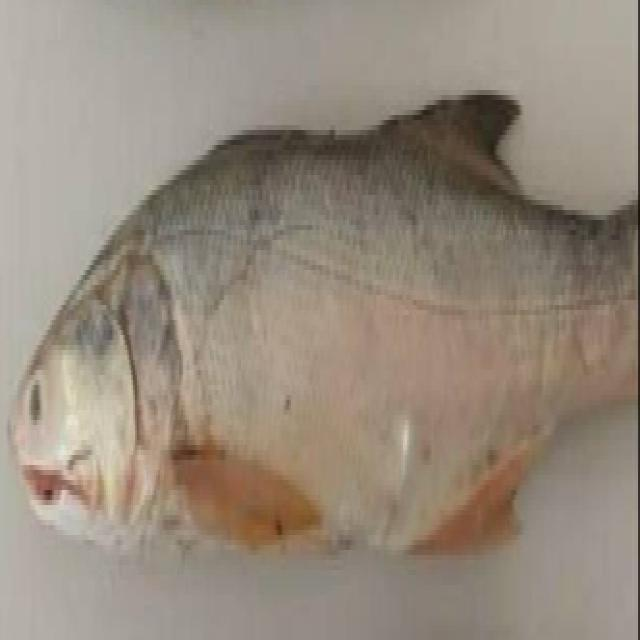Fourfinger-Threadfin: (2, 38, 640, 586)
